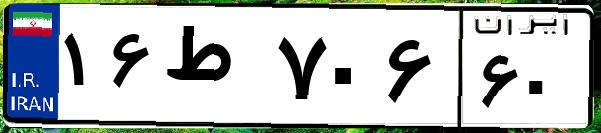0: (330, 28, 385, 110), (525, 38, 570, 115)
1: (57, 26, 110, 100)
6: (385, 28, 445, 110), (475, 38, 525, 113), (110, 28, 158, 98)
7: (270, 28, 330, 110)
ط: (158, 20, 270, 120)
